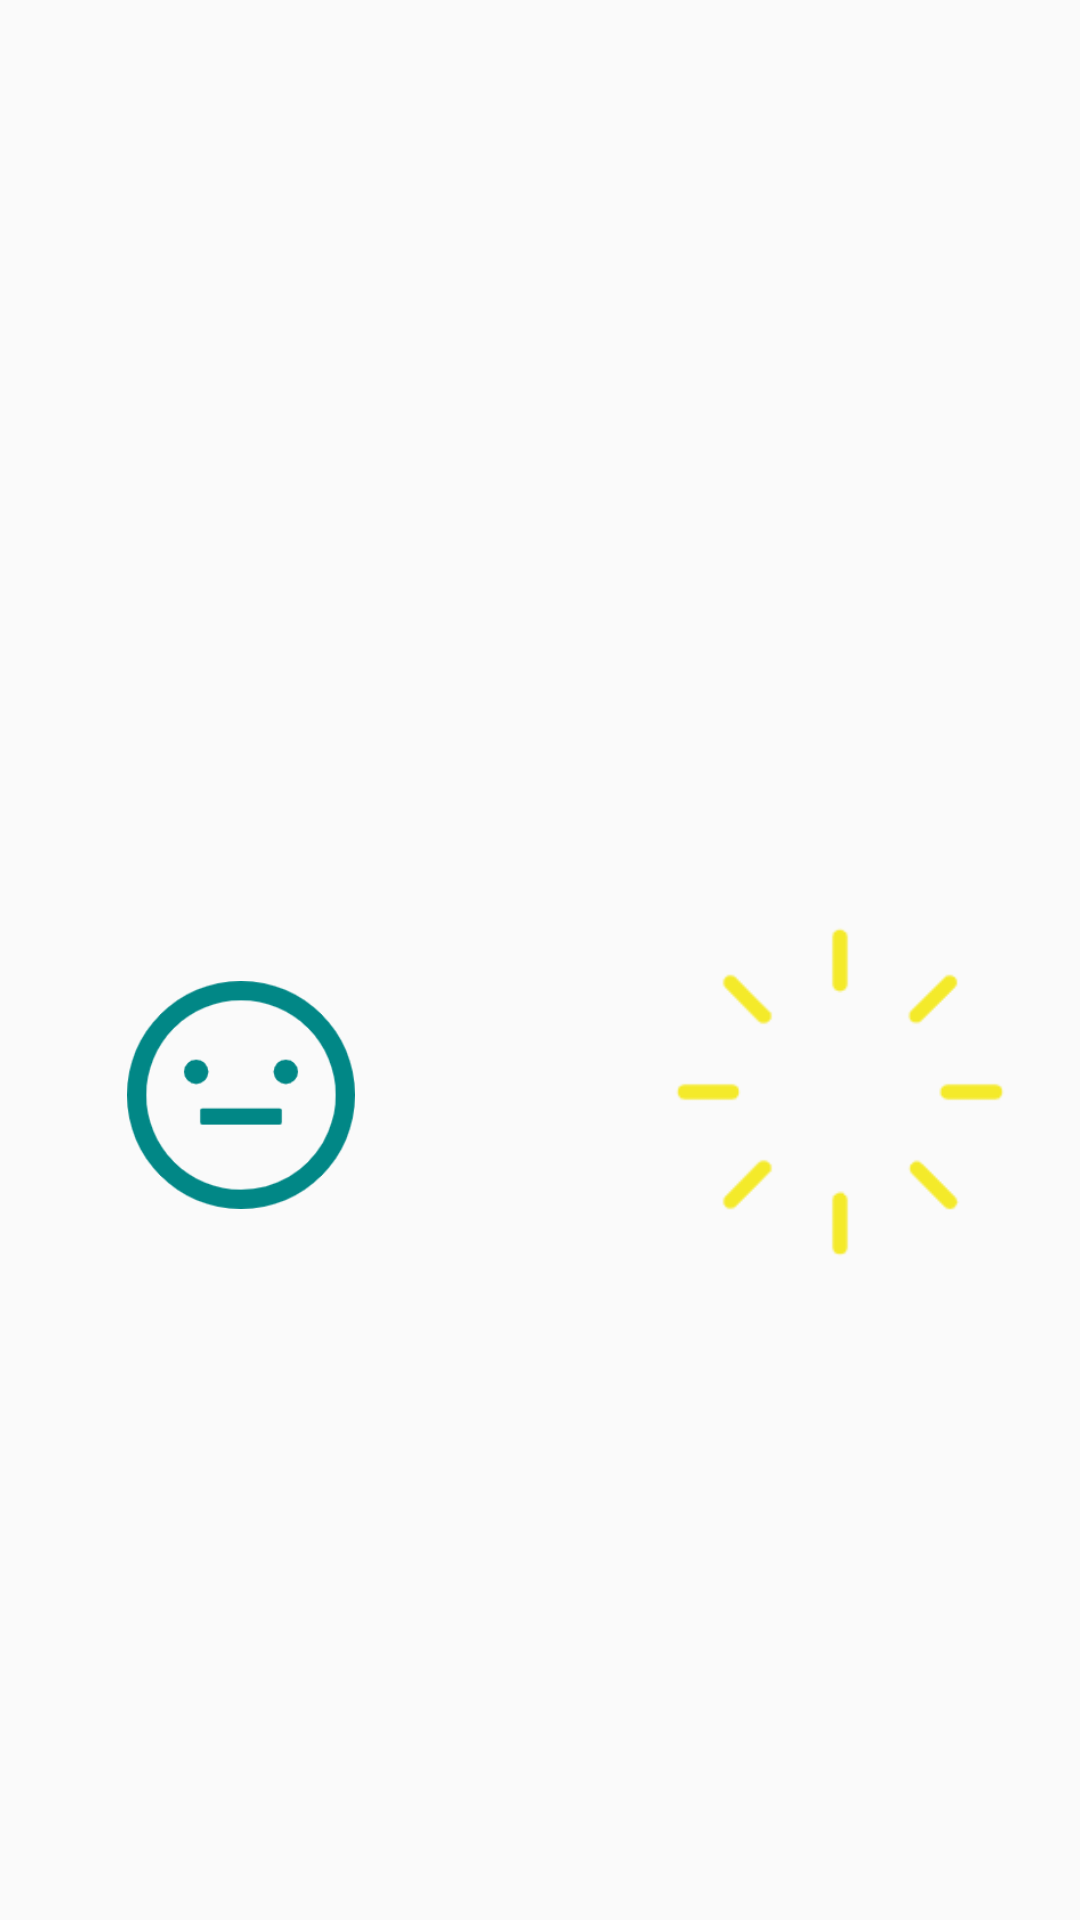

Locate icon controls on the screen. Image size 1080 × 1920, boxes as (x1, y1, x2, y2).
neutral: (127, 981, 355, 1209)
